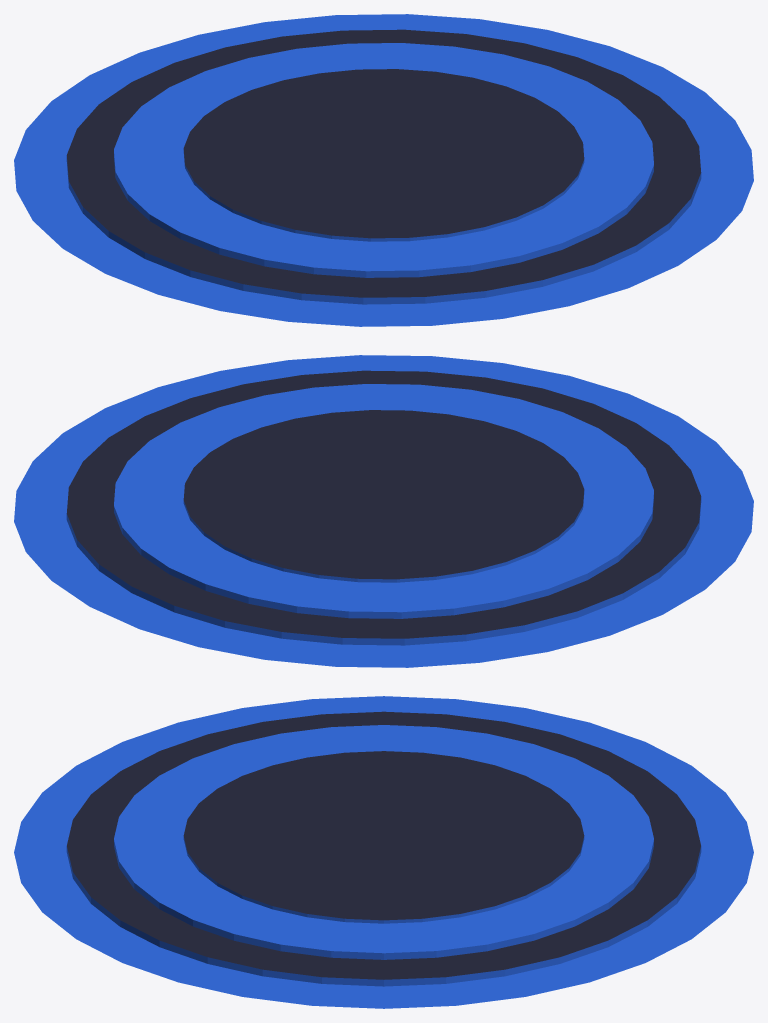
File: SpawnPoint.fbx
3 views of the same model, one above another, from view 1: azimuth 30°, elevation 25°; view 2: azimuth 150°, elevation 25°; view 3: azimuth 270°, elevation 25° (orthographic).
Parts seen in each view (by area): view 1: Circle; view 2: Circle; view 3: Circle.
Part boxes in pixels (x1=…): Circle: x1=14, y1=14, x2=753, y2=326; Circle: x1=14, y1=355, x2=753, y2=667; Circle: x1=14, y1=696, x2=753, y2=1008.
Bounding box in the file's own units: 1000 × 25 × 1000.
